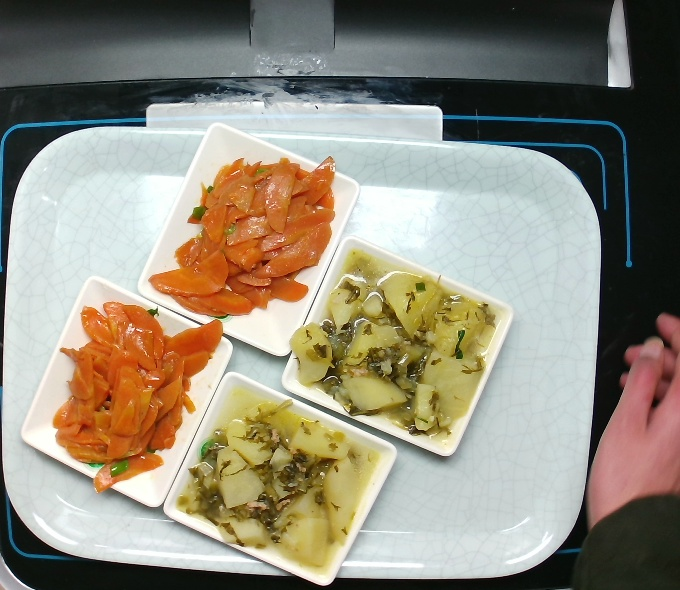wcq-HuLuoBo: (157, 157, 351, 331), (40, 301, 227, 481)
wcq-XueCaiTuDou: (186, 398, 382, 560), (299, 267, 485, 432)
